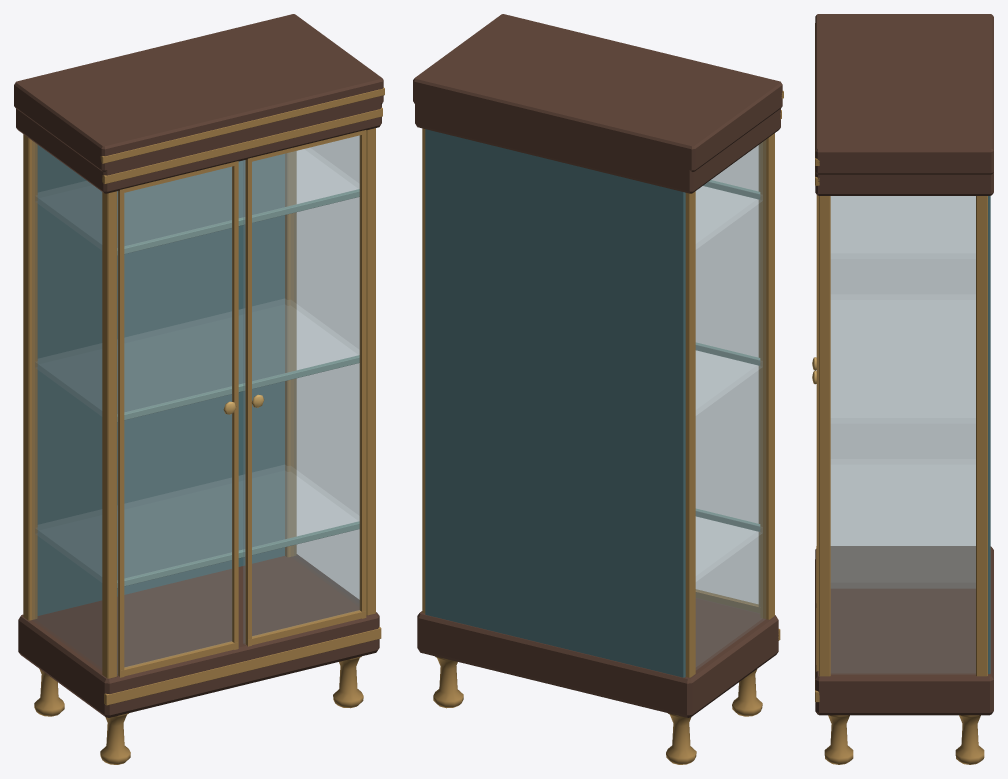
The model's file is glass_cabinet.glb.
3 renders of one model, left to right at view 1: azimuth 30°, elevation 25°; view 2: azimuth 150°, elevation 25°; view 3: azimuth 270°, elevation 25°, orthographic.
Parts seen in each view (by area): view 1: glass_cabinet; view 2: glass_cabinet; view 3: glass_cabinet.
Part boxes in pixels (x1,y1,x2,y2): glass_cabinet: (14, 14, 384, 764); glass_cabinet: (413, 14, 783, 764); glass_cabinet: (812, 14, 993, 764).
Bounding box in the file's own units: 0.8 × 1.7 × 0.45.
